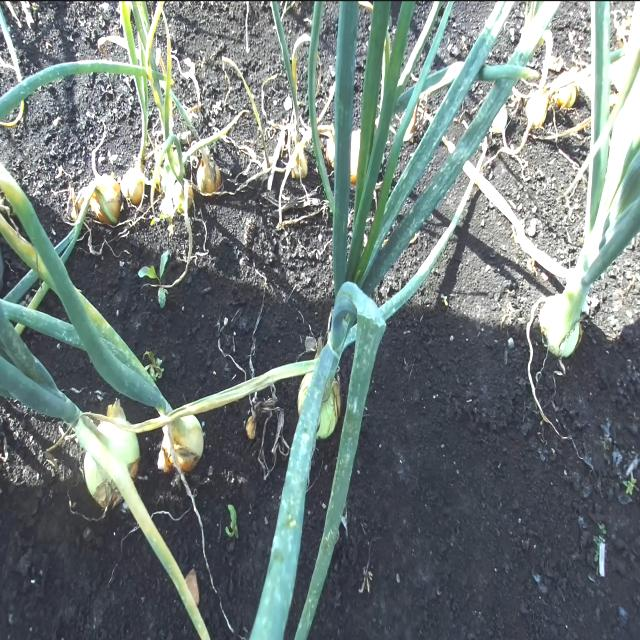onion: (83, 418, 140, 512), (297, 369, 341, 441), (160, 411, 204, 475), (91, 180, 122, 227), (196, 153, 222, 196)
